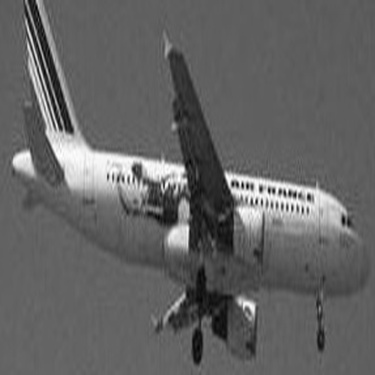airplane: (3, 4, 370, 373)
